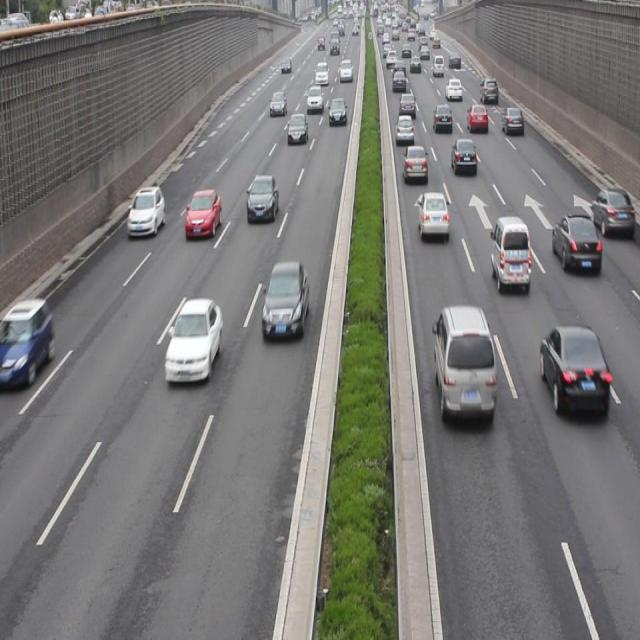car: (539, 322, 608, 416), (164, 297, 222, 383), (1, 297, 53, 390), (260, 260, 309, 338), (552, 213, 600, 274), (126, 185, 165, 239), (590, 186, 631, 237), (185, 188, 222, 240), (246, 174, 280, 224), (417, 190, 449, 239), (451, 137, 477, 177), (403, 143, 427, 183), (499, 104, 524, 138), (467, 102, 488, 134), (287, 112, 307, 144), (431, 103, 452, 133), (395, 112, 414, 144)
truck: (432, 304, 496, 419), (489, 215, 530, 289)
